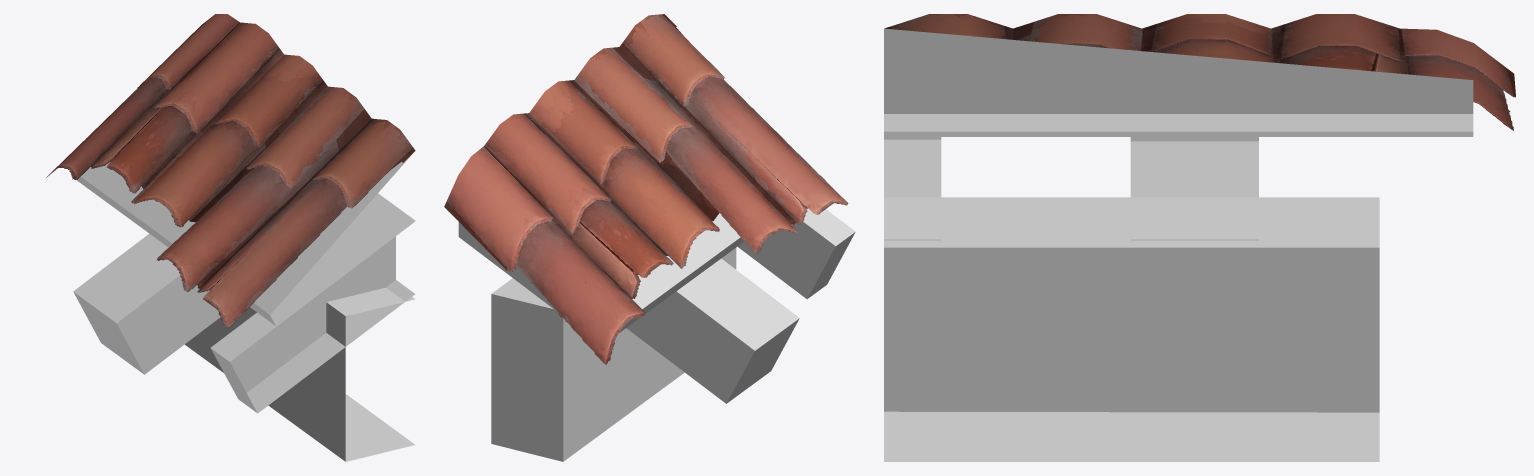
File: WallKit_Verge_End_Right_LOD0.fbx
3 views of the same model, side by side, from view 1: azimuth 30°, elevation 25°; view 2: azimuth 150°, elevation 25°; view 3: azimuth 270°, elevation 25° (orthographic). The views are drawn at different scales.
Parts seen in each view (by area): view 1: WallKit_Verge_End_Right_LOD0; view 2: WallKit_Verge_End_Right_LOD0; view 3: WallKit_Verge_End_Right_LOD0.
Part boxes in pixels (x1=…): WallKit_Verge_End_Right_LOD0: x1=46, y1=14, x2=415, y2=461; WallKit_Verge_End_Right_LOD0: x1=444, y1=14, x2=855, y2=461; WallKit_Verge_End_Right_LOD0: x1=884, y1=14, x2=1515, y2=461.
Bounding box in the file's own units: 63.83 × 86.36 × 111.
